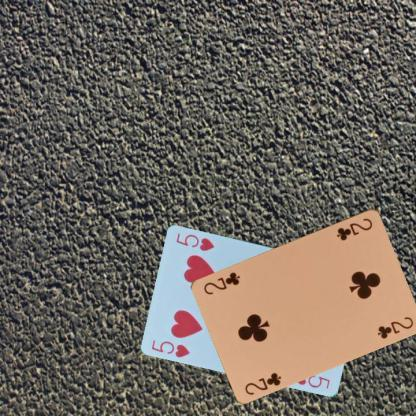2c: (334, 214, 374, 242), (242, 369, 283, 396)
5h: (149, 337, 191, 359)
